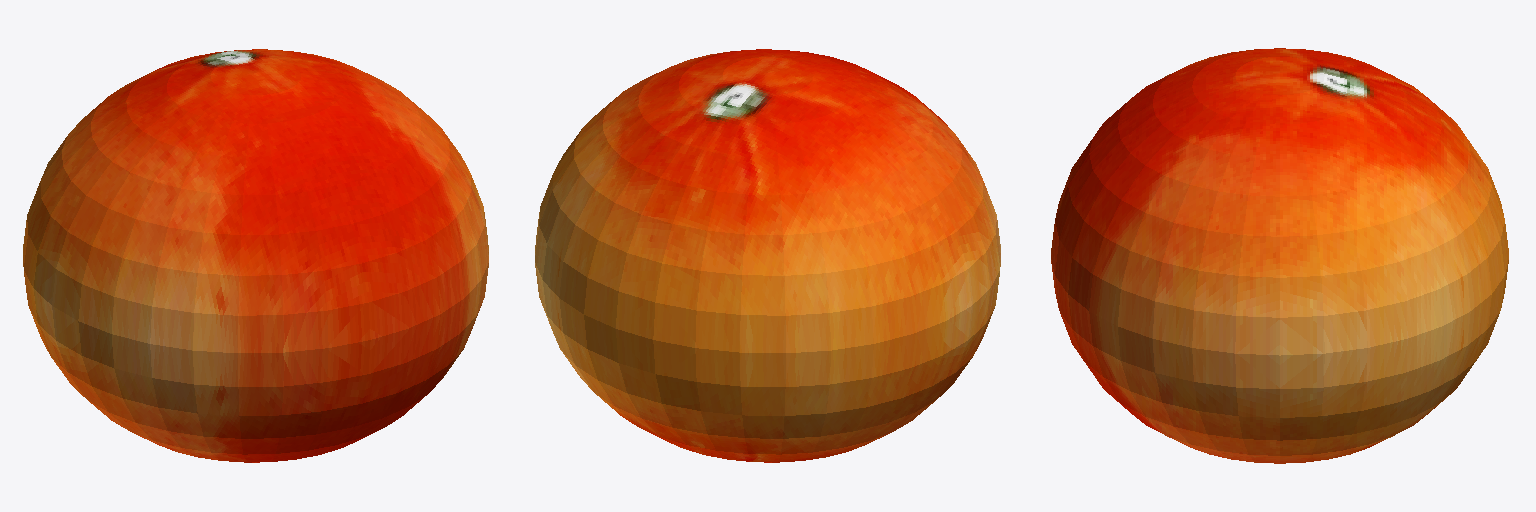
The picture shows the model from 3 angles: view 1: azimuth 30°, elevation 25°; view 2: azimuth 150°, elevation 25°; view 3: azimuth 270°, elevation 25°; orthographic projection.
Visible parts, largest first — view 1: Sphere; view 2: Sphere; view 3: Sphere.
Part boxes in pixels (x1,y1,x2,y2): Sphere: (23,49,488,462); Sphere: (535,49,1000,462); Sphere: (1051,48,1508,463).
Size of the model in its own units: 0.078 by 0.067 by 0.076.
Materials: 1 (1 with a texture image).